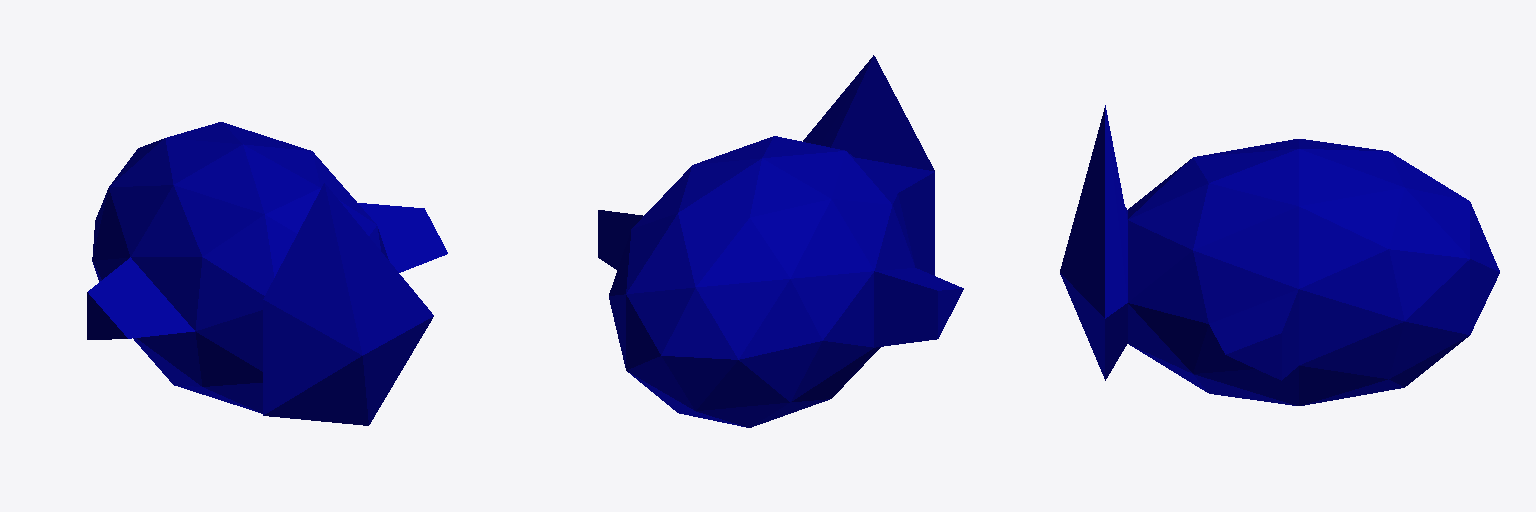
The model's file is player.obj.
The picture shows the model from 3 angles: view 1: azimuth 30°, elevation 25°; view 2: azimuth 150°, elevation 25°; view 3: azimuth 270°, elevation 25°; orthographic projection.
Visible parts, largest first — view 1: Icosphere; view 2: Icosphere; view 3: Icosphere.
Part boxes in pixels (left/top/right/bottom): Icosphere: left=87, top=122, right=447, bottom=425; Icosphere: left=598, top=55, right=963, bottom=427; Icosphere: left=1060, top=105, right=1499, bottom=405.
Size of the model in its own units: 1.07 by 0.8558 by 1.2.